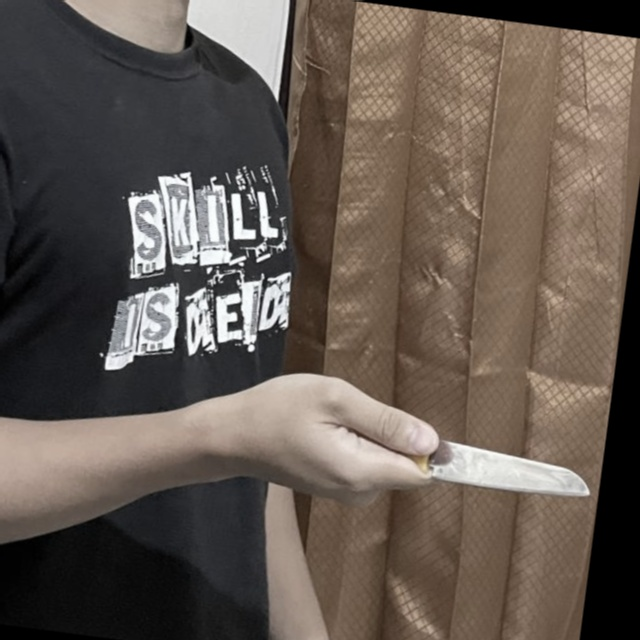Sharp-Object: (333, 420, 598, 503)
